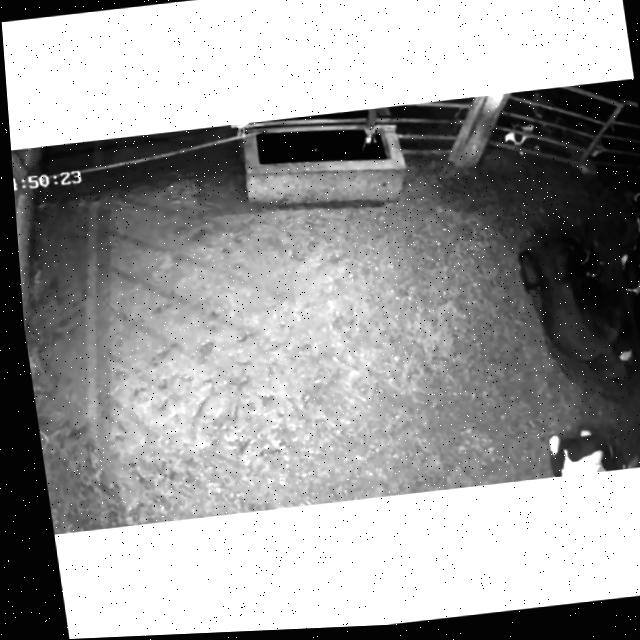lay: (502, 204, 640, 409), (607, 174, 640, 394)
